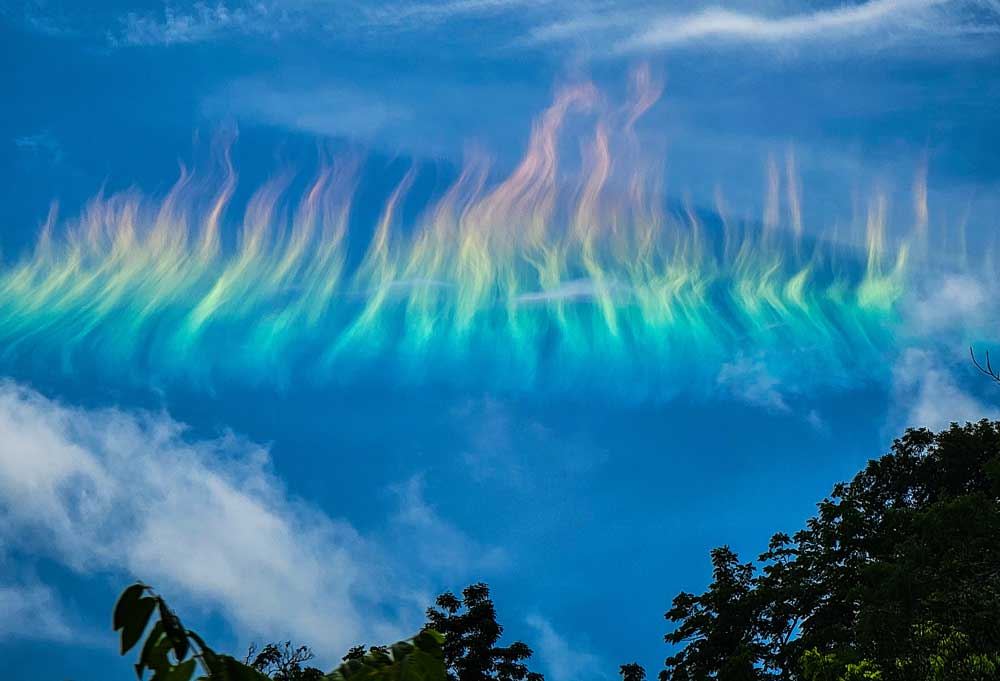Cirrus: (26, 66, 969, 406), (5, 378, 379, 639)
